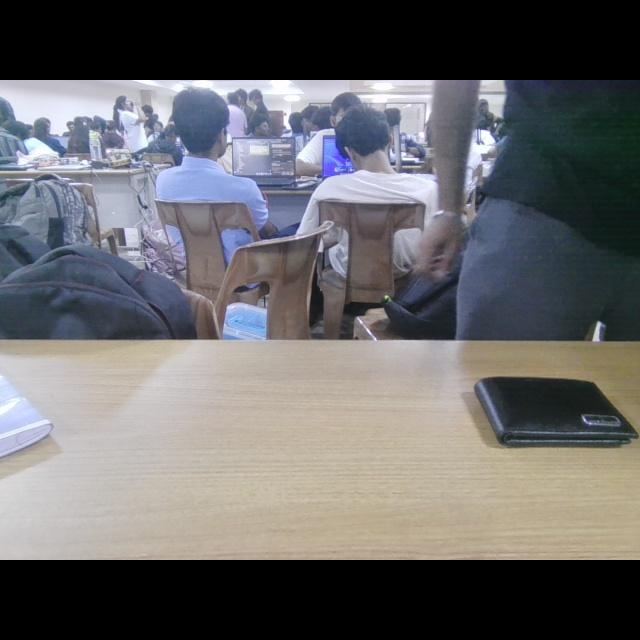wallet: (472, 364, 640, 476)
